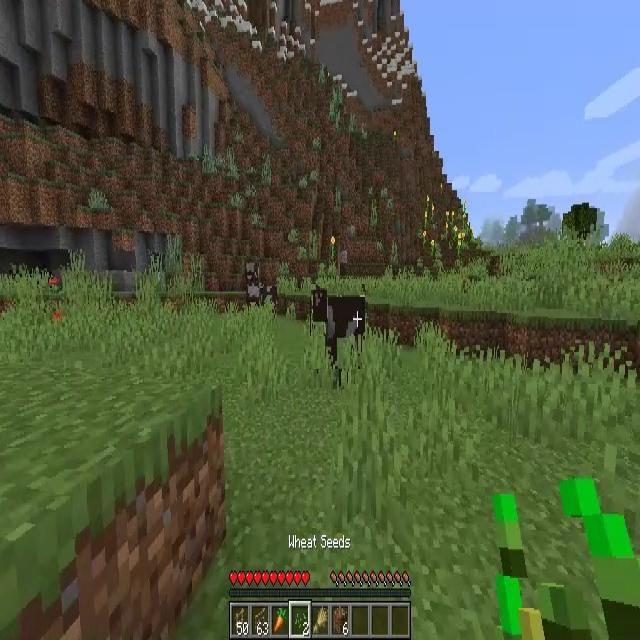cow: (312, 284, 366, 369), (244, 259, 276, 314)
